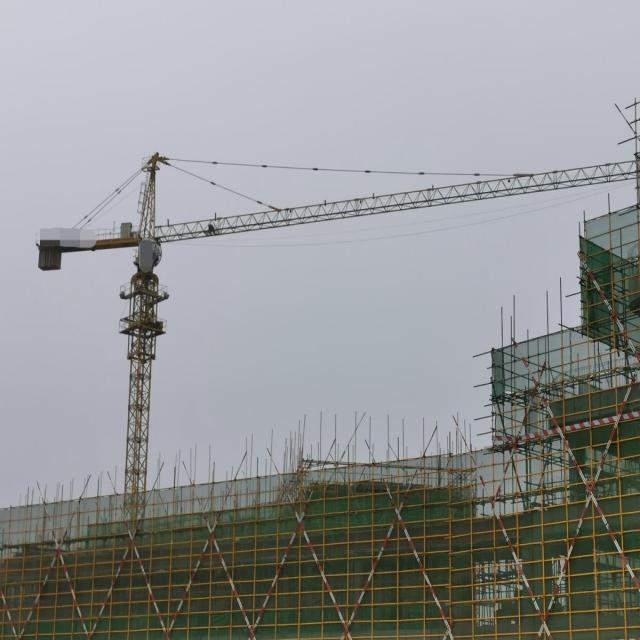crane: (25, 140, 640, 531)
